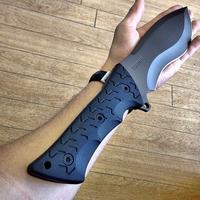knife: (28, 6, 189, 190)
